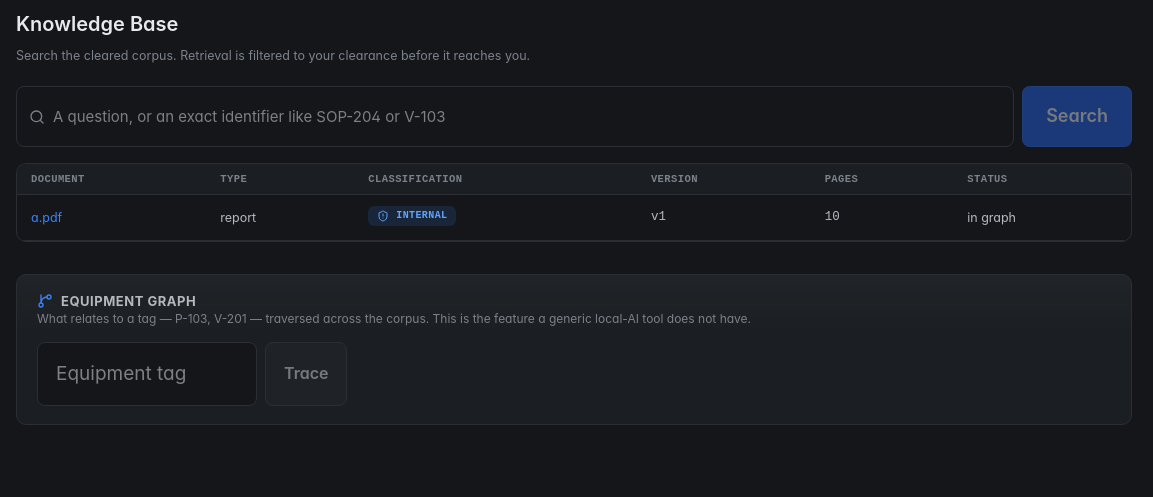
Scenario: the Knowledge Base empty states › distinguishes 'indexed, no match' and points at exact identifiers
Step 1. Type "nonsense" into the field with placeholder "A question, or an exact identifier like SOP-204 or V-103" → (527, 117), box top-left (53, 91), bottom-right (1001, 142)
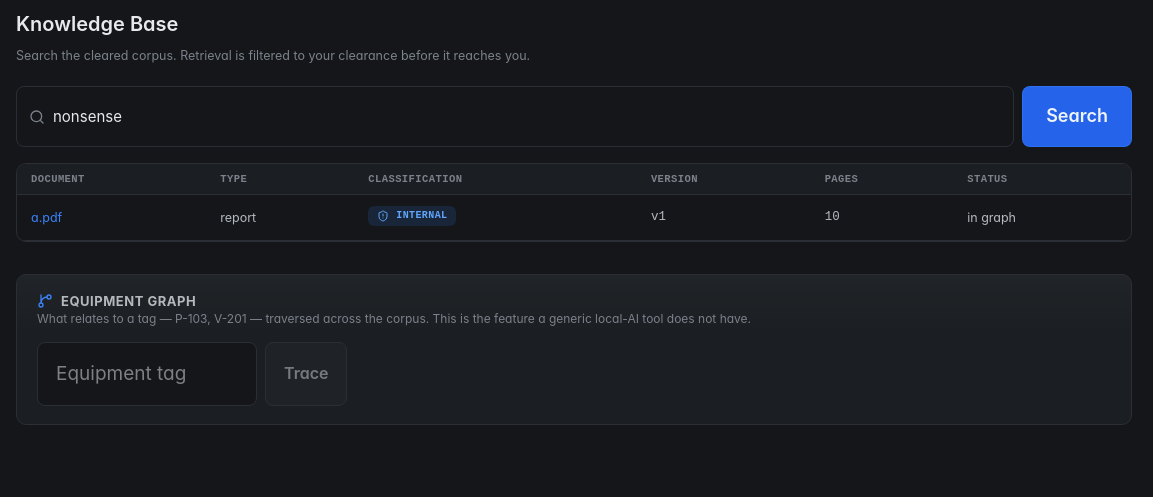
Step 2. Click the button "Search" → (1077, 117), box top-left (1022, 86), bottom-right (1132, 147)
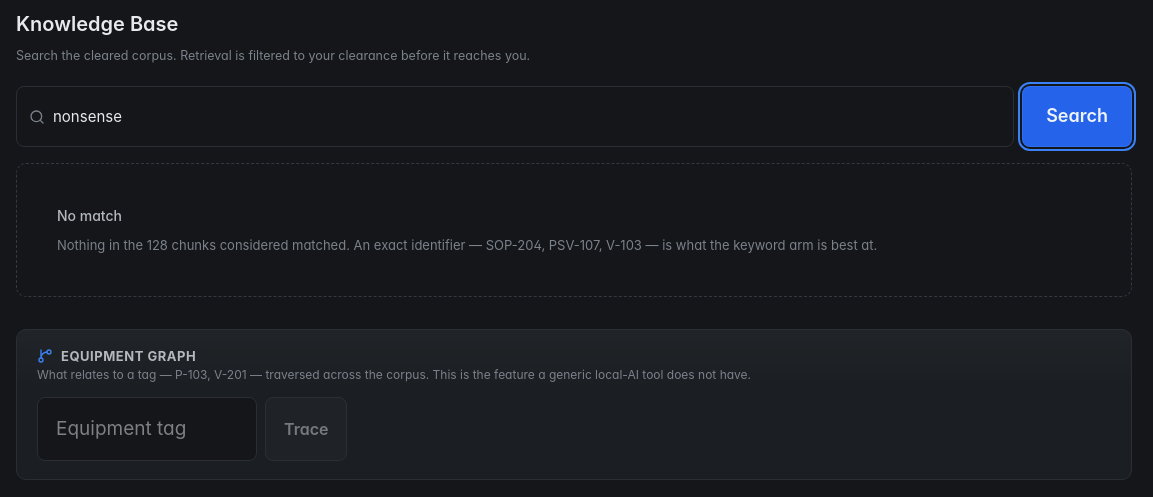
Expected: the text "No match" is shown, top-left (57, 207), bottom-right (122, 224)
Expected: the text "SOP-204" is shown, top-left (57, 237), bottom-right (877, 253)
